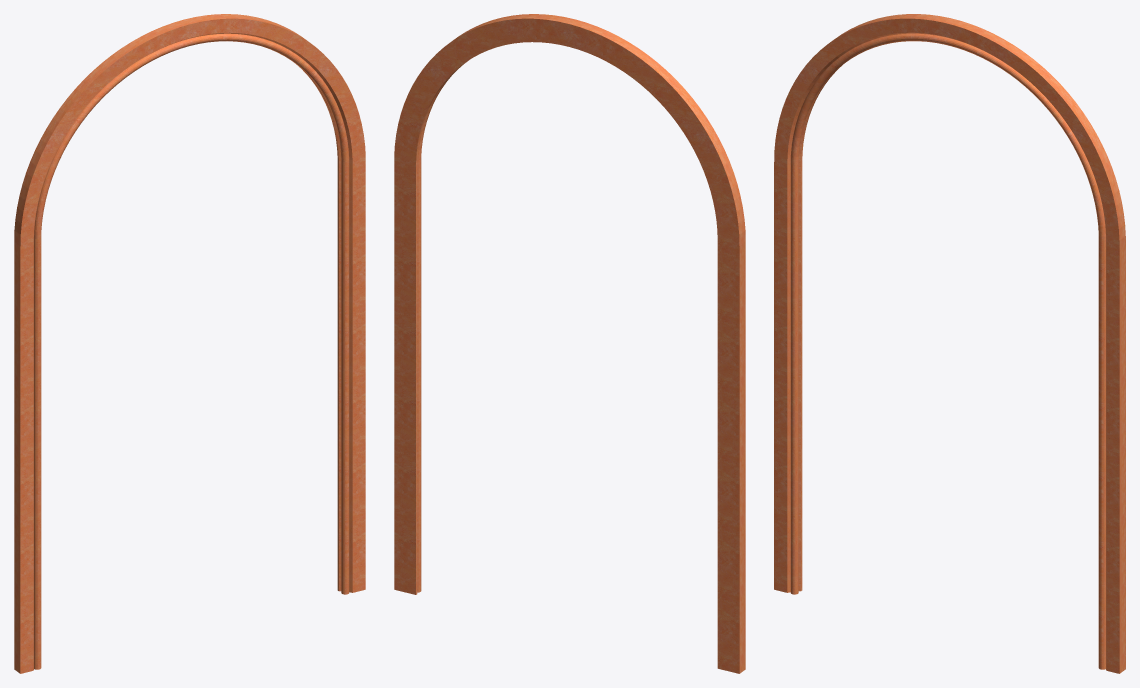
File: arch.fbx
The picture shows the model from 3 angles, left to right: view 1: azimuth 30°, elevation 25°; view 2: azimuth 150°, elevation 25°; view 3: azimuth 330°, elevation 25°; orthographic projection.
Parts seen in each view (by area): view 1: __TXTR brick divisionless; view 2: __TXTR brick divisionless; view 3: __TXTR brick divisionless.
Part boxes in pixels (bbox=[...]): __TXTR brick divisionless: bbox=[14, 14, 365, 673]; __TXTR brick divisionless: bbox=[394, 14, 745, 673]; __TXTR brick divisionless: bbox=[774, 14, 1125, 673].
Bounding box in the file's own units: 520 × 16.8 × 875.
1 material, 1 textured.
